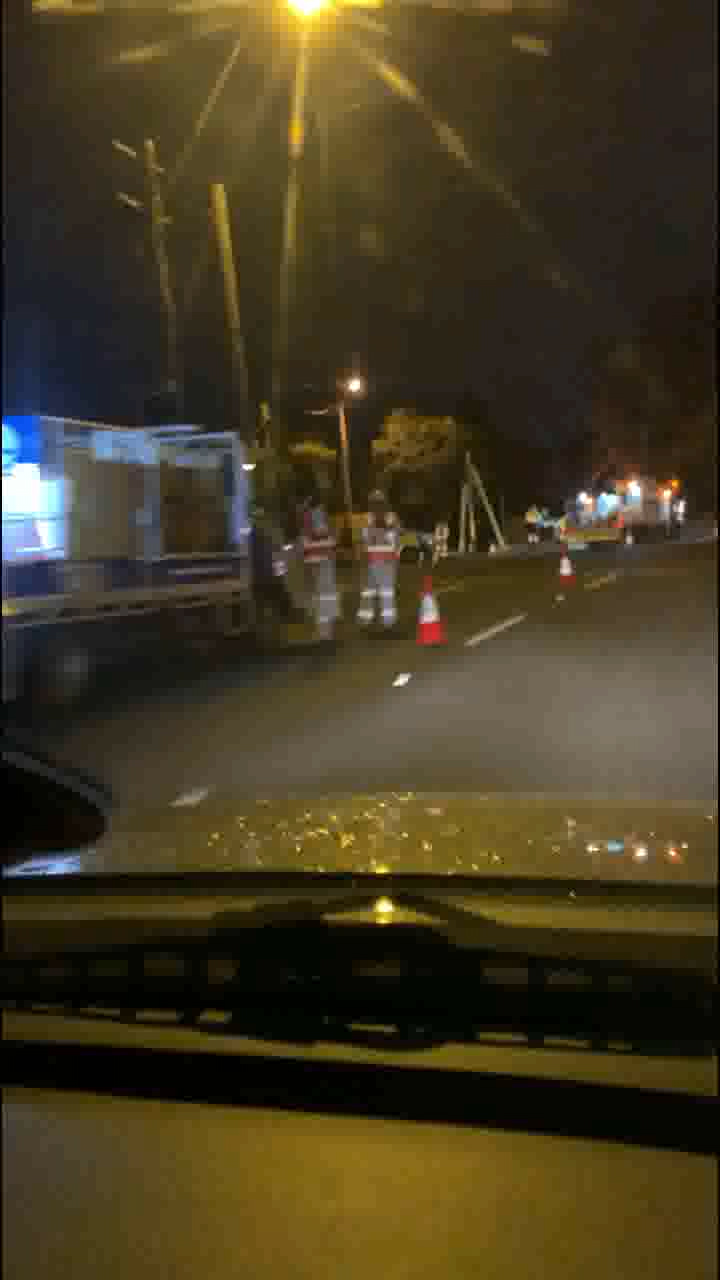person: (299, 484, 343, 671), (358, 490, 402, 655)
road cone: (418, 575, 450, 652), (552, 544, 574, 586)
truck: (8, 413, 279, 688), (518, 490, 685, 548)
